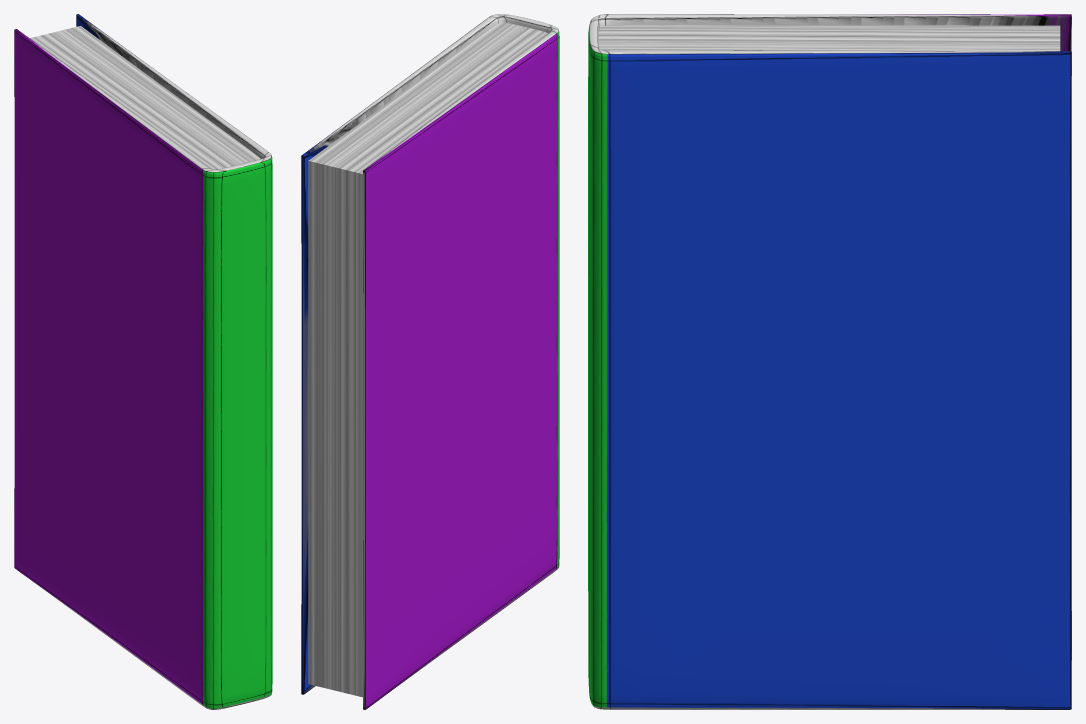
The model's file is book.glb.
The picture shows the model from 3 angles, left to right: view 1: azimuth 30°, elevation 25°; view 2: azimuth 150°, elevation 25°; view 3: azimuth 270°, elevation 25°; orthographic projection. The views are drawn at different scales.
Parts seen in each view (by area): view 1: Cube, Cube.001; view 2: Cube, Cube.001; view 3: Cube, Cube.001.
Part boxes in pixels (x1=…): Cube: x1=14, y1=14, x2=272, y2=709; Cube.001: x1=30, y1=26, x2=260, y2=169; Cube: x1=301, y1=14, x2=559, y2=709; Cube.001: x1=308, y1=22, x2=548, y2=697; Cube: x1=588, y1=14, x2=1071, y2=709; Cube.001: x1=598, y1=24, x2=1060, y2=51.
Size of the model in its own units: 0.3977 by 3 by 2.
Materials: 2 (2 with a texture image).
